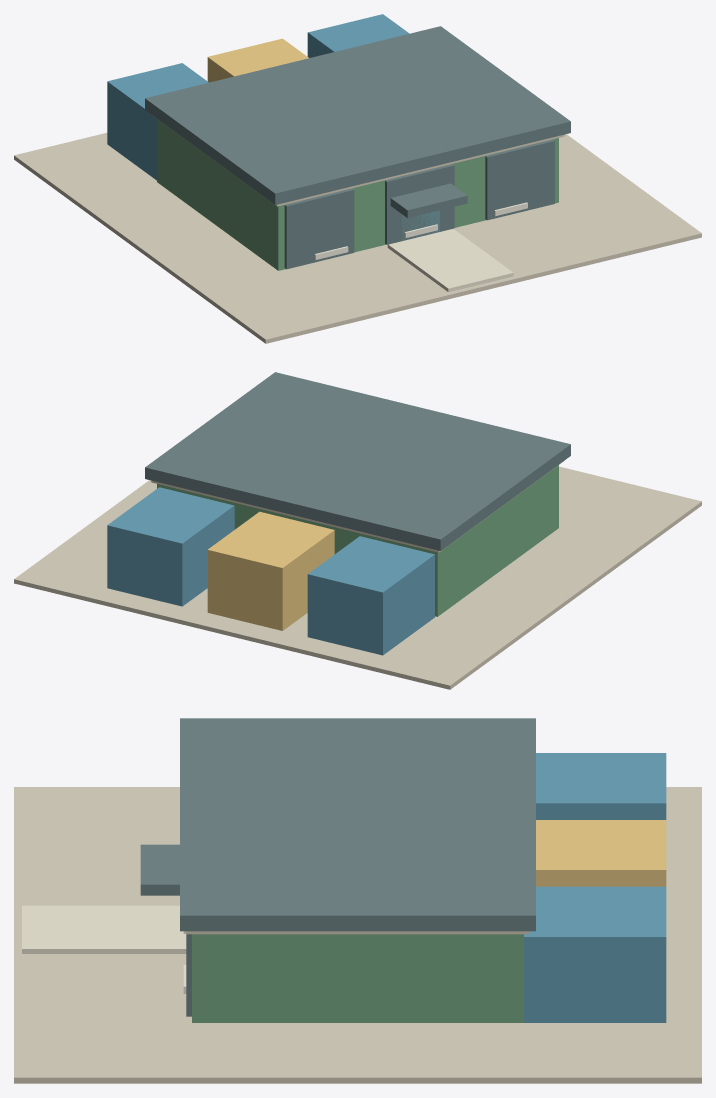
The model's file is civic_waste.glb.
3 renders of one model, top to bottom at view 1: azimuth 30°, elevation 25°; view 2: azimuth 150°, elevation 25°; view 3: azimuth 270°, elevation 25°, orthographic. The views are drawn at different scales.
Parts seen in each view (by area): view 1: Paved civic lot.002, Copper roof.002, Masonry shell.002, Sorting container, Loading bay, Loading bay.002, Front path.002, Loading bay.001, Sorting container.002, Sorting container.001, Entrance canopy.002, Limestone course.003 (+1 smaller); view 2: Copper roof.002, Paved civic lot.002, Sorting container, Sorting container.002, Sorting container.001, Masonry shell.002, Limestone course.003; view 3: Paved civic lot.002, Copper roof.002, Masonry shell.002, Sorting container.002, Sorting container, Sorting container.001, Front path.002, Entrance canopy.002, Limestone course.003.
Boxes of the visible parts, x1,y1,x2,y2 form: Paved civic lot.002: (14,132,701,343); Copper roof.002: (145,26,570,204); Masonry shell.002: (157,119,558,270); Sorting container: (107,63,208,180); Loading bay: (284,188,354,269); Loading bay.002: (485,139,554,220); Front path.002: (387,228,513,292); Loading bay.001: (385,164,454,244); Sorting container.002: (307,14,409,57); Sorting container.001: (207,38,308,82); Entrance canopy.002: (390,183,467,218); Limestone course.003: (152,115,564,206); Copper roof.002: (145,372,570,550); Paved civic lot.002: (14,466,701,689); Sorting container: (307,536,434,655); Sorting container.002: (107,487,234,606); Sorting container.001: (207,511,334,630); Masonry shell.002: (157,465,558,616); Limestone course.003: (151,460,564,552); Paved civic lot.002: (14,787,701,1083); Copper roof.002: (180,718,535,931); Masonry shell.002: (192,934,523,1022); Sorting container.002: (524,886,666,1022); Sorting container: (536,753,666,819); Sorting container.001: (536,820,666,886); Front path.002: (22,905,186,953); Entrance canopy.002: (140,844,179,895); Limestone course.003: (186,931,529,934).
Size of the model in its own units: 8.7 by 1.69 by 8.7.
